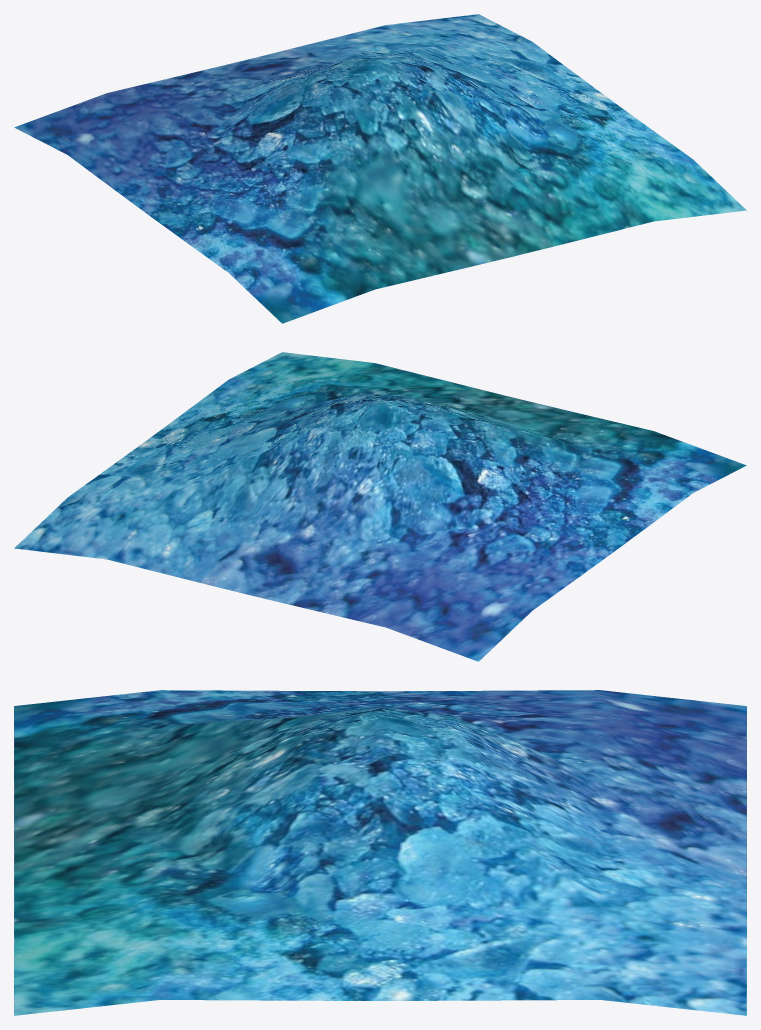
The model's file is crystallization1.fbx.
3 views of the same model, one above another, from view 1: azimuth 30°, elevation 25°; view 2: azimuth 150°, elevation 25°; view 3: azimuth 270°, elevation 25° (orthographic). The views are drawn at different scales.
Visible parts, largest first — view 1: crystallization1; view 2: crystallization1; view 3: crystallization1.
Boxes of the visible parts, left/top/right/bottom form: crystallization1: left=14, top=14, right=746, bottom=323; crystallization1: left=14, top=352, right=746, bottom=661; crystallization1: left=14, top=690, right=746, bottom=1015.
Size of the model in its own units: 53.43 by 11.28 by 53.43.
Materials: 1 (1 with a texture image).
